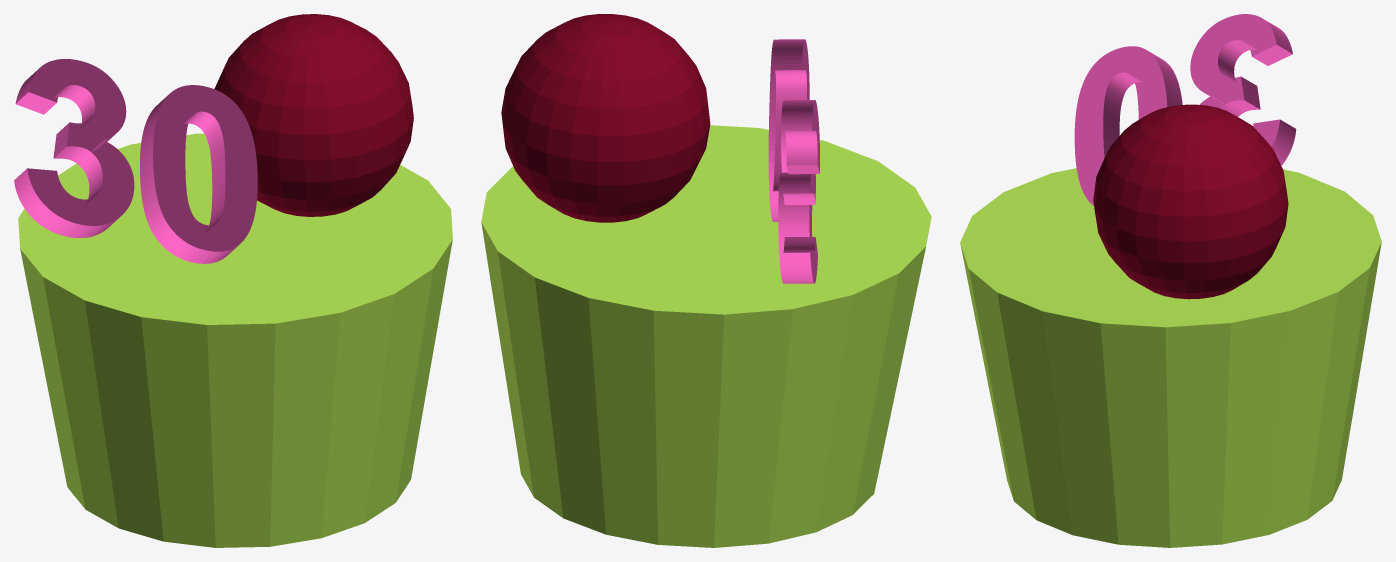
File: cake1.glb
3 views of the same model, side by side, from view 1: azimuth 30°, elevation 25°; view 2: azimuth 150°, elevation 25°; view 3: azimuth 270°, elevation 25° (orthographic). The views are drawn at different scales.
Bounding box in the file's own units: 0.2799 × 0.2999 × 0.2799.
